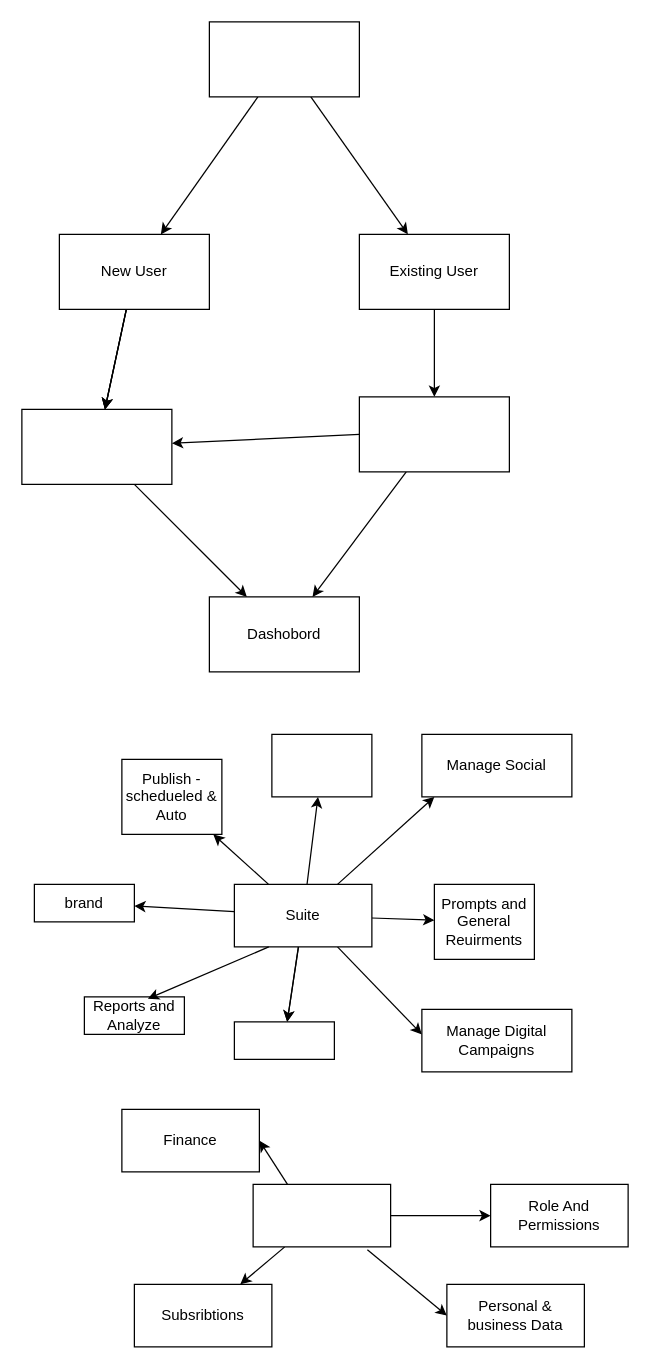
Some shapes in this 650 by 1369 pixel diagram are drawn without their labels. Here are the shapes that lost their labels. From the top down, the centre of each, then its label:
the point at 283,59: Auth
the point at 96,446: SetUp Suite
the point at 433,434: Check Active|Wanted Suite
the point at 321,765: Ai generations of ideas and assets
the point at 283,1040: connections & Permissions
the point at 321,1215: User
